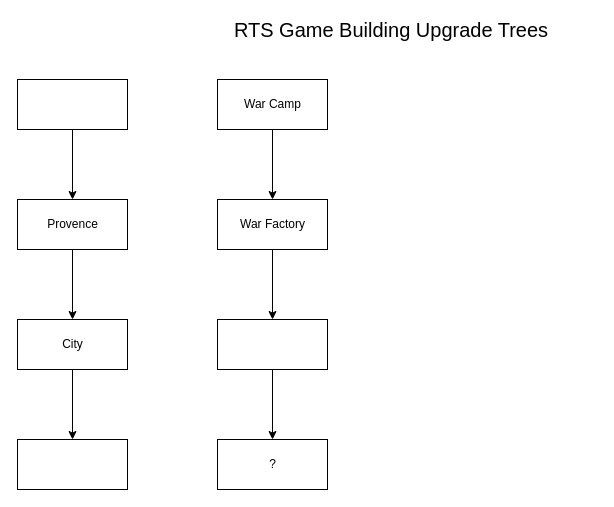
The diagram is 614 pixels wide and 507 high, and some of its shapes have lost their labels. Here are the shapes that lost their labels. From the top down, the centre of each, then its label:
At point 72,104: "Village".
At point 272,344: "Barracks".
At point 72,464: "Mecha".
